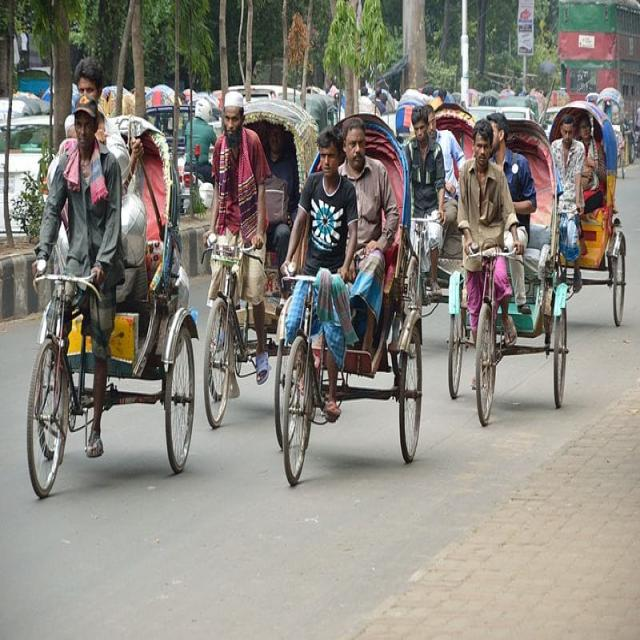Rickshaw: (16, 118, 197, 499), (271, 111, 426, 484), (445, 116, 570, 428), (550, 100, 626, 327)
